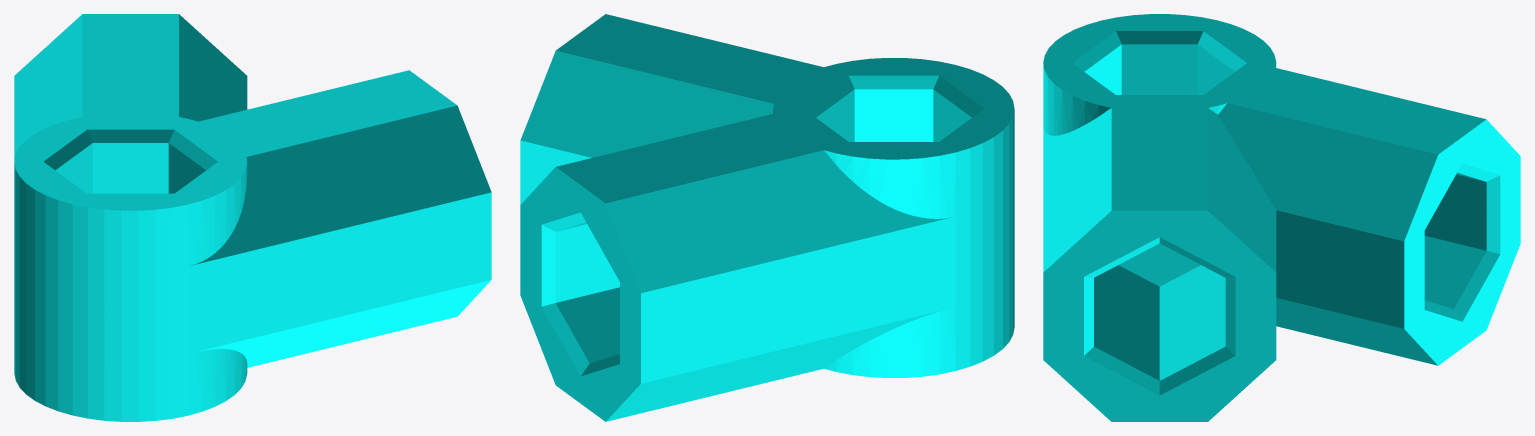
The model's file is Prism Connector.glb.
3 renders of one model, left to right at view 1: azimuth 30°, elevation 25°; view 2: azimuth 150°, elevation 25°; view 3: azimuth 270°, elevation 25°, orthographic. The views are drawn at different scales.
Visible parts, largest first — view 1: Node1; view 2: Node1; view 3: Node1.
Boxes of the visible parts, x1,y1,x2,y2 form: Node1: (14,14,491,421); Node1: (520,14,1014,421); Node1: (1043,14,1520,421).
Bounding box in the file's own units: 13.99 × 7 × 14.34.
